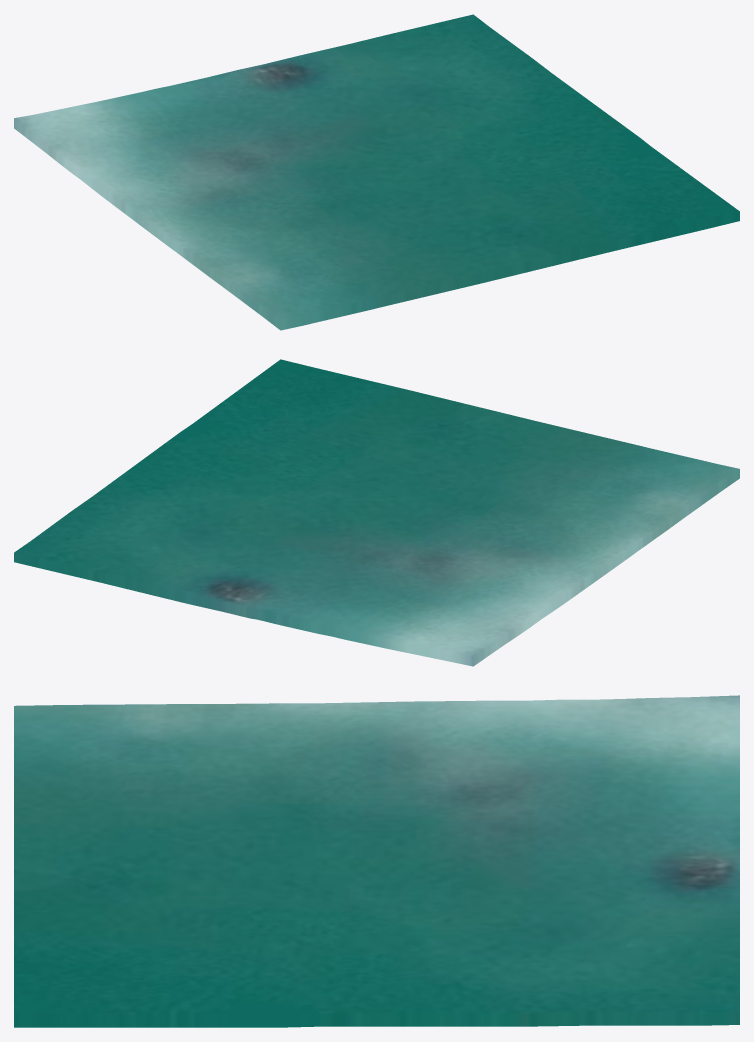
The model's file is z20-167554-405169-h0-yup-uvflip-v3-world.glb.
The picture shows the model from 3 angles, top to bottom: view 1: azimuth 30°, elevation 25°; view 2: azimuth 150°, elevation 25°; view 3: azimuth 270°, elevation 25°; orthographic projection. The views are drawn at different scales.
Bounding box in the file's own units: 30.16 × 1.24 × 30.32.
Materials: 1 (1 with a texture image).
